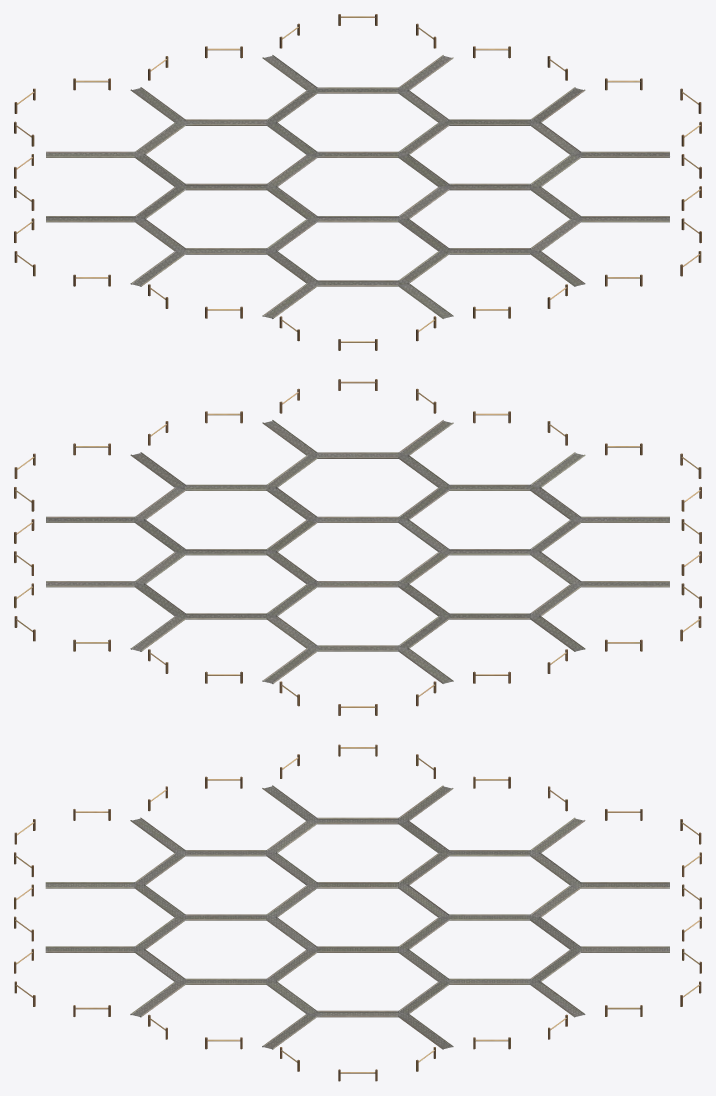
File: ground-10.glb
3 views of the same model, one above another, from view 1: azimuth 30°, elevation 25°; view 2: azimuth 150°, elevation 25°; view 3: azimuth 270°, elevation 25° (orthographic).
Visible parts, largest first — view 1: ground-10; view 2: ground-10; view 3: ground-10.
Part boxes in pixels (x1,y1,x2,y2): ground-10: (14, 14, 701, 350); ground-10: (14, 379, 701, 715); ground-10: (14, 744, 701, 1081).
Bounding box in the file's own units: 10.13 × 0.1599 × 9.04.
Materials: 1 (1 with a texture image).
